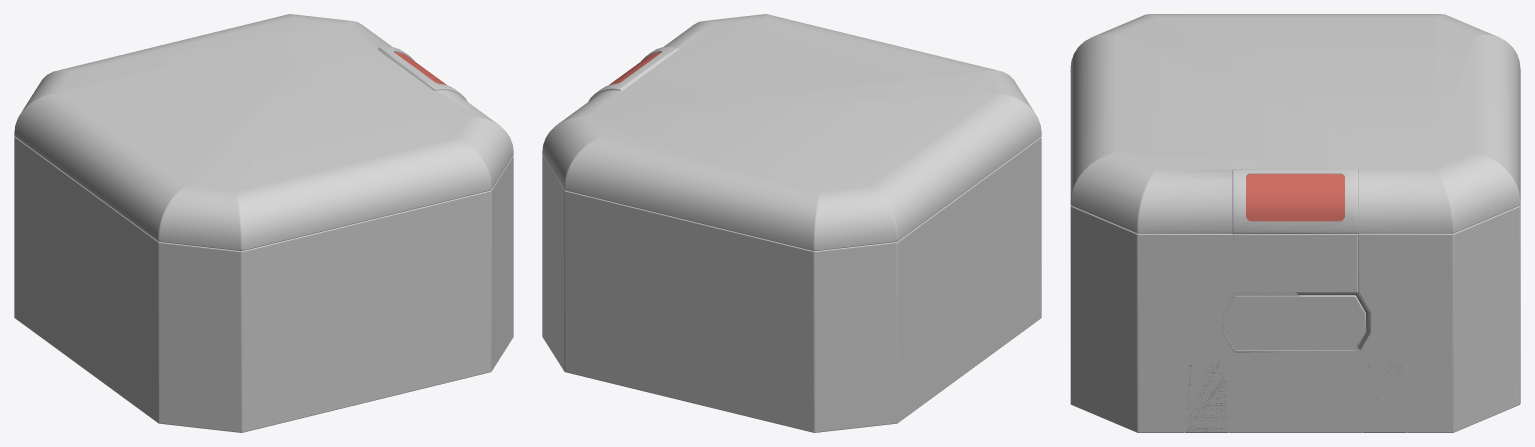
The model's file is B_Middle.fbx.
The picture shows the model from 3 angles, left to right: view 1: azimuth 30°, elevation 25°; view 2: azimuth 150°, elevation 25°; view 3: azimuth 270°, elevation 25°; orthographic projection. The views are drawn at different scales.
Visible parts, largest first — view 1: Cube; view 2: Cube; view 3: Cube.
Part boxes in pixels (box(x1,y1,x2,y2)): Cube: box(14, 14, 513, 432); Cube: box(542, 14, 1041, 432); Cube: box(1070, 14, 1520, 432).
Bounding box in the file's own units: 804 × 482 × 800.
